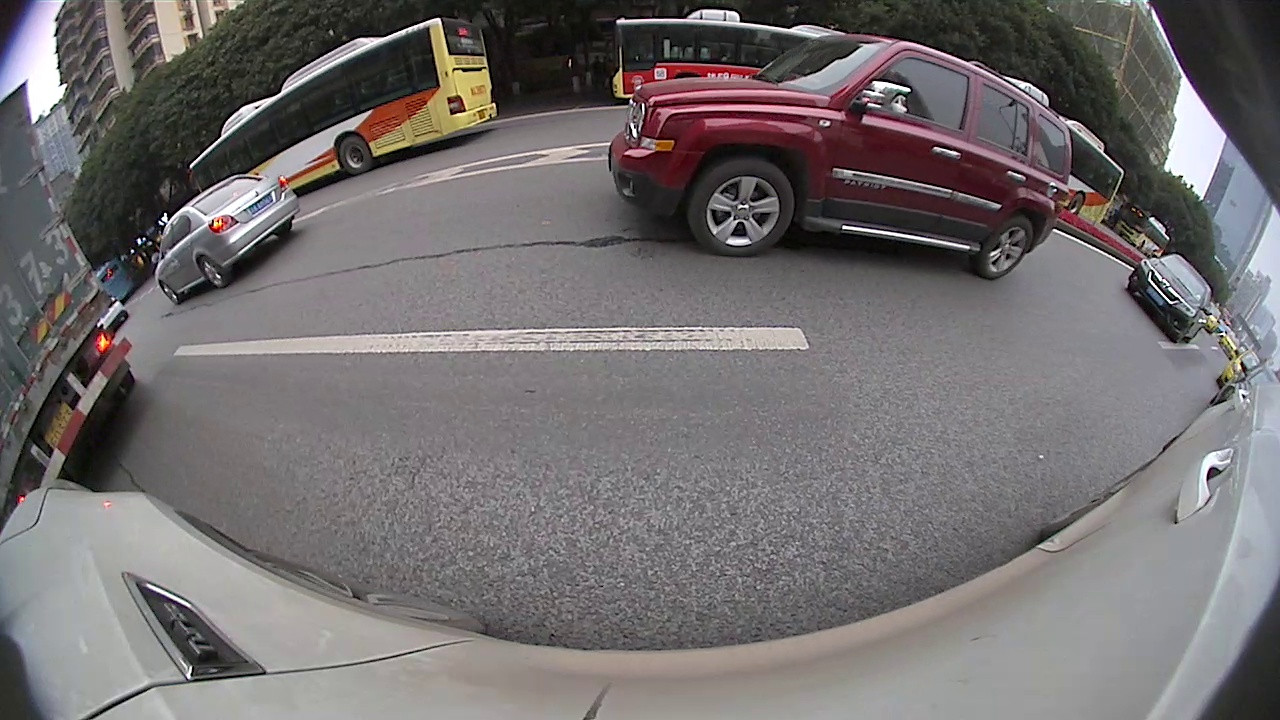bus: (189, 18, 497, 204), (609, 9, 848, 98), (1052, 110, 1126, 229), (1116, 206, 1171, 258), (94, 267, 134, 307)
car: (608, 34, 1076, 282), (154, 172, 300, 303), (1128, 251, 1213, 346)
front: (694, 156, 797, 258), (162, 280, 174, 302)
rear: (978, 210, 1027, 283), (333, 134, 373, 175), (194, 256, 229, 292), (1066, 194, 1088, 215)
truck: (0, 83, 128, 510)
